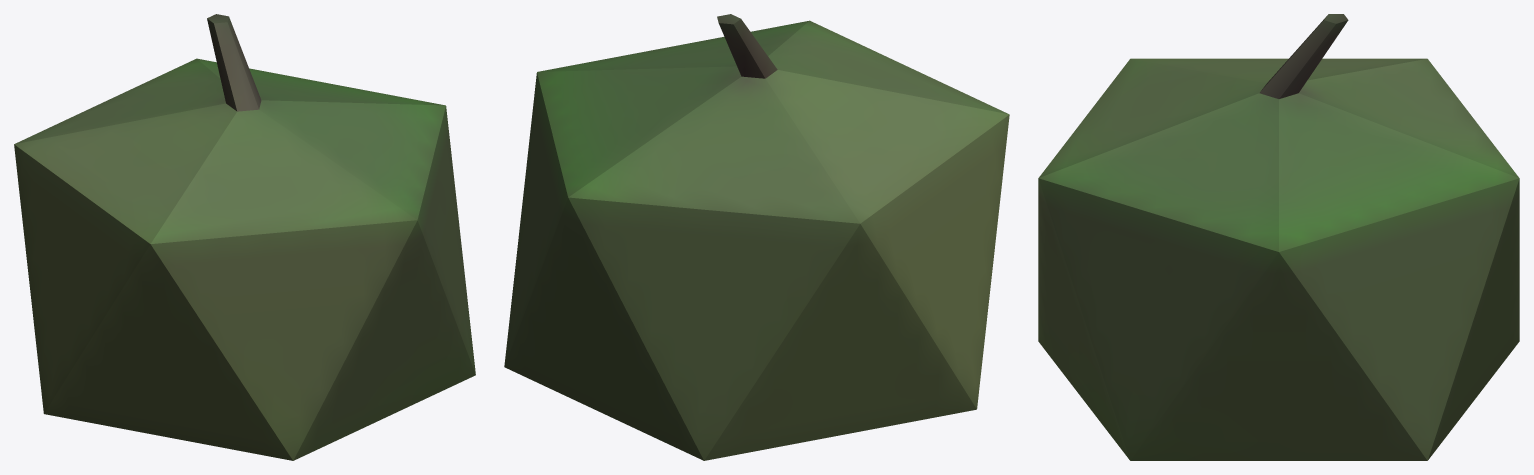
File: elmaY.fbx
3 renders of one model, left to right at view 1: azimuth 30°, elevation 25°; view 2: azimuth 150°, elevation 25°; view 3: azimuth 270°, elevation 25°, orthographic. The views are drawn at different scales.
Visible parts, largest first — view 1: Icosphere.001; view 2: Icosphere.001; view 3: Icosphere.001.
Part boxes in pixels (box(x1,y1,x2,y2)): Icosphere.001: box(14, 14, 475, 460); Icosphere.001: box(504, 14, 1009, 460); Icosphere.001: box(1038, 14, 1519, 460).
Bounding box in the file's own units: 34.05 × 31.99 × 32.38.
